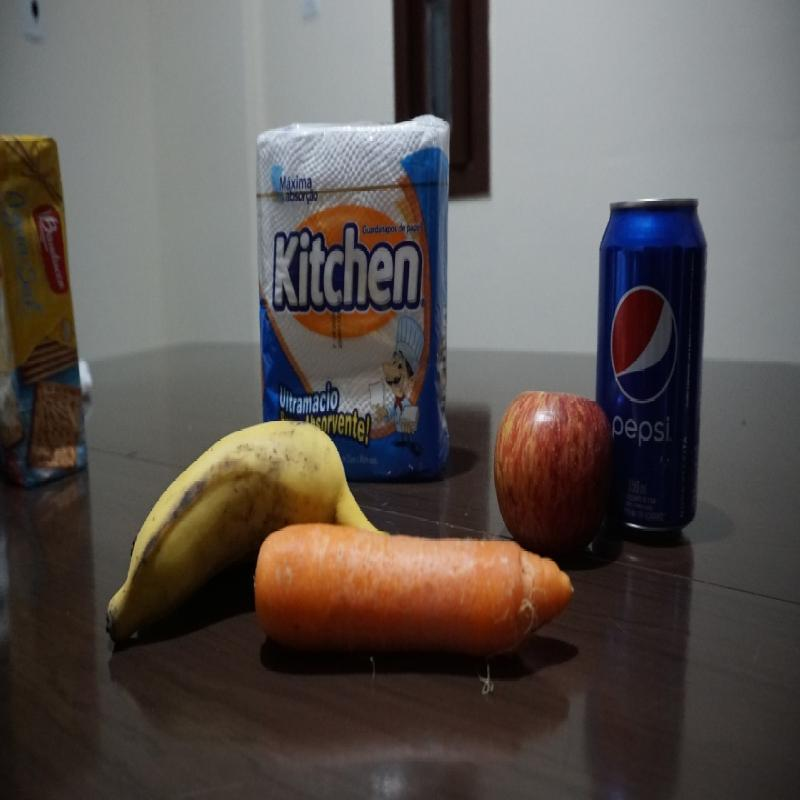Apple: (489, 390, 618, 571)
Banana: (106, 416, 386, 655)
Carrot: (252, 521, 580, 660)
Cracker: (0, 127, 92, 484)
Napkin: (253, 116, 453, 477)
Soda can: (595, 198, 710, 546)
